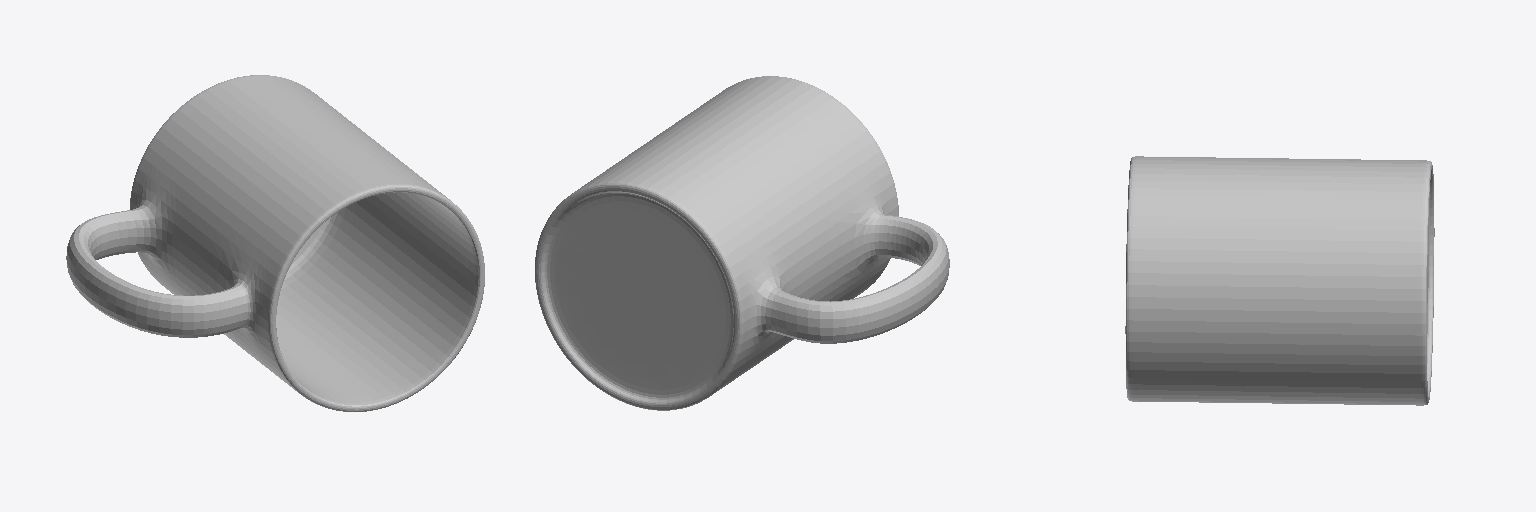
File: mug.obj
3 views of the same model, side by side, from view 1: azimuth 30°, elevation 25°; view 2: azimuth 150°, elevation 25°; view 3: azimuth 270°, elevation 25° (orthographic).
Parts seen in each view (by area): view 1: Cylinder; view 2: Cylinder; view 3: Cylinder.
Part boxes in pixels (x1,y1,x2,y2): Cylinder: (66,75,484,411); Cylinder: (535,76,949,410); Cylinder: (1125,156,1434,405).
Size of the model in its own units: 0.1858 by 0.1224 by 0.154.